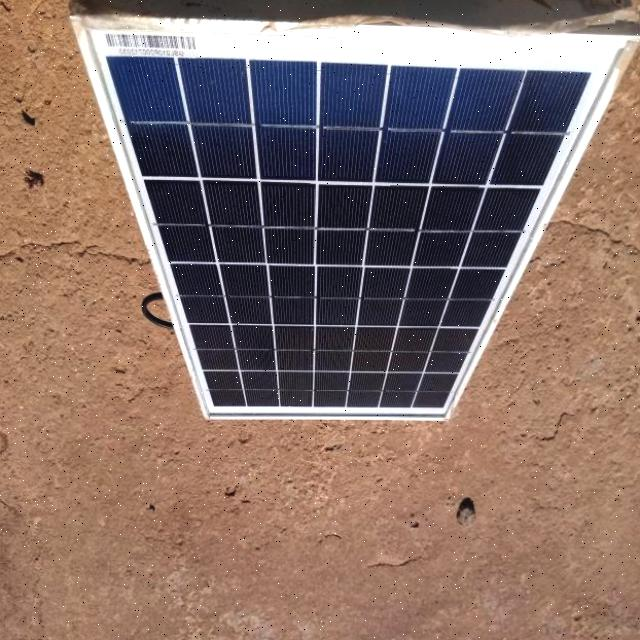Normal Solar Panel: (73, 19, 640, 418)
